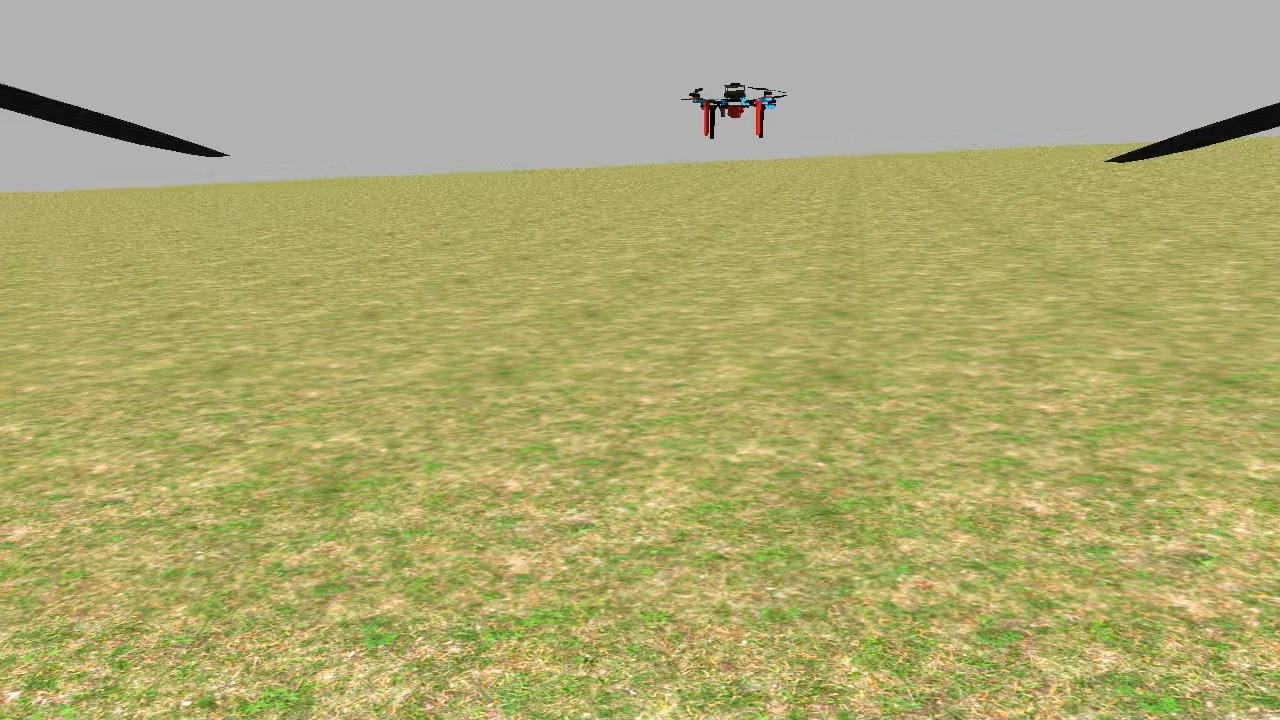UAV: (678, 73, 787, 142)
